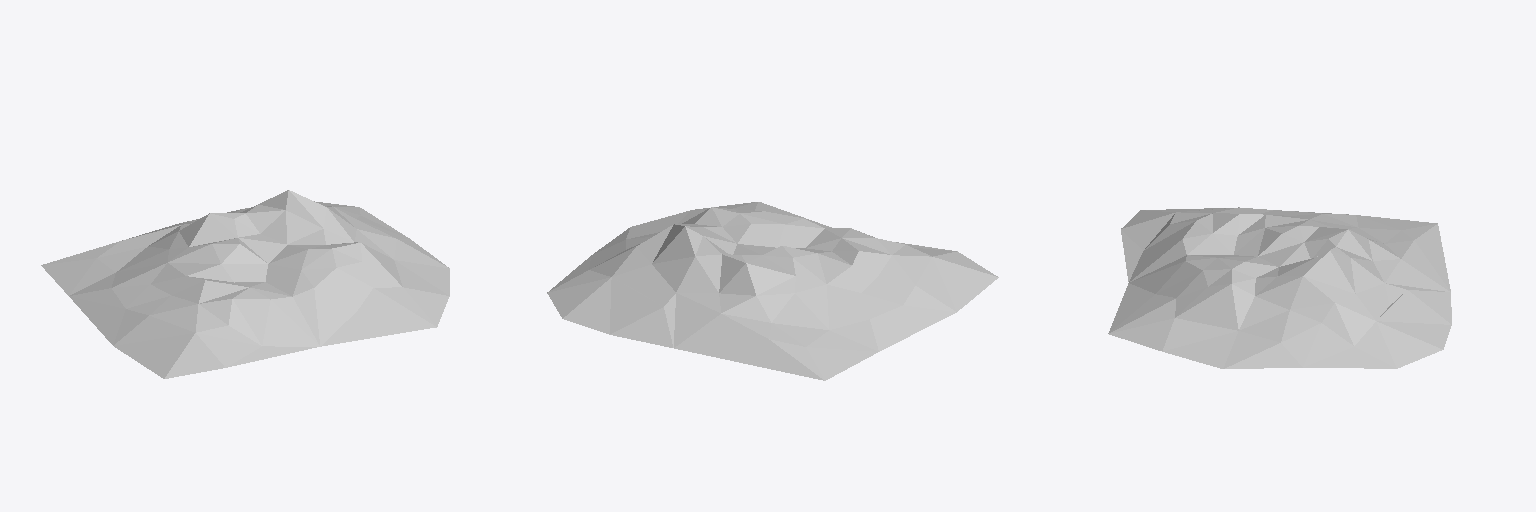
File: Stone2.obj
3 views of the same model, side by side, from view 1: azimuth 30°, elevation 25°; view 2: azimuth 150°, elevation 25°; view 3: azimuth 270°, elevation 25° (orthographic).
Parts seen in each view (by area): view 1: Island_1_Big_Rocks_2; view 2: Island_1_Big_Rocks_2; view 3: Island_1_Big_Rocks_2.
Boxes of the visible parts, x1=… form: Island_1_Big_Rocks_2: x1=41, y1=190, x2=449, y2=378; Island_1_Big_Rocks_2: x1=547, y1=202, x2=998, y2=380; Island_1_Big_Rocks_2: x1=1108, y1=207, x2=1451, y2=368.
Bounding box in the file's own units: 12.76 × 2.49 × 11.45.